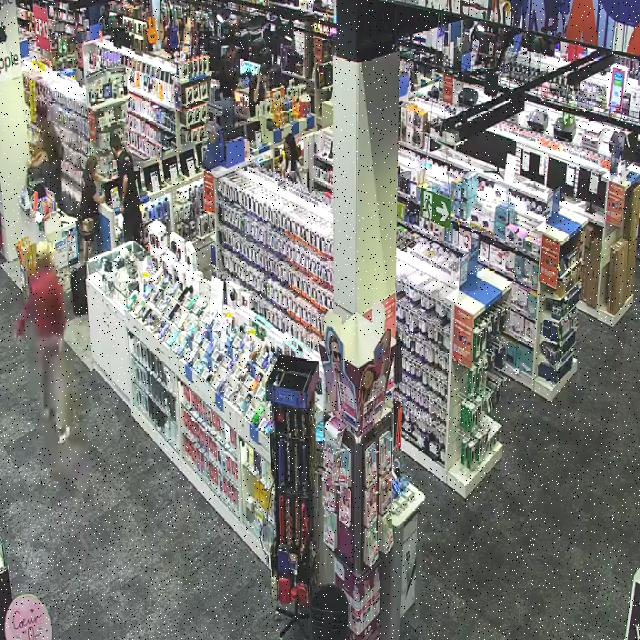person: (16, 241, 69, 442), (111, 134, 141, 242), (81, 156, 104, 259), (282, 133, 301, 182)
